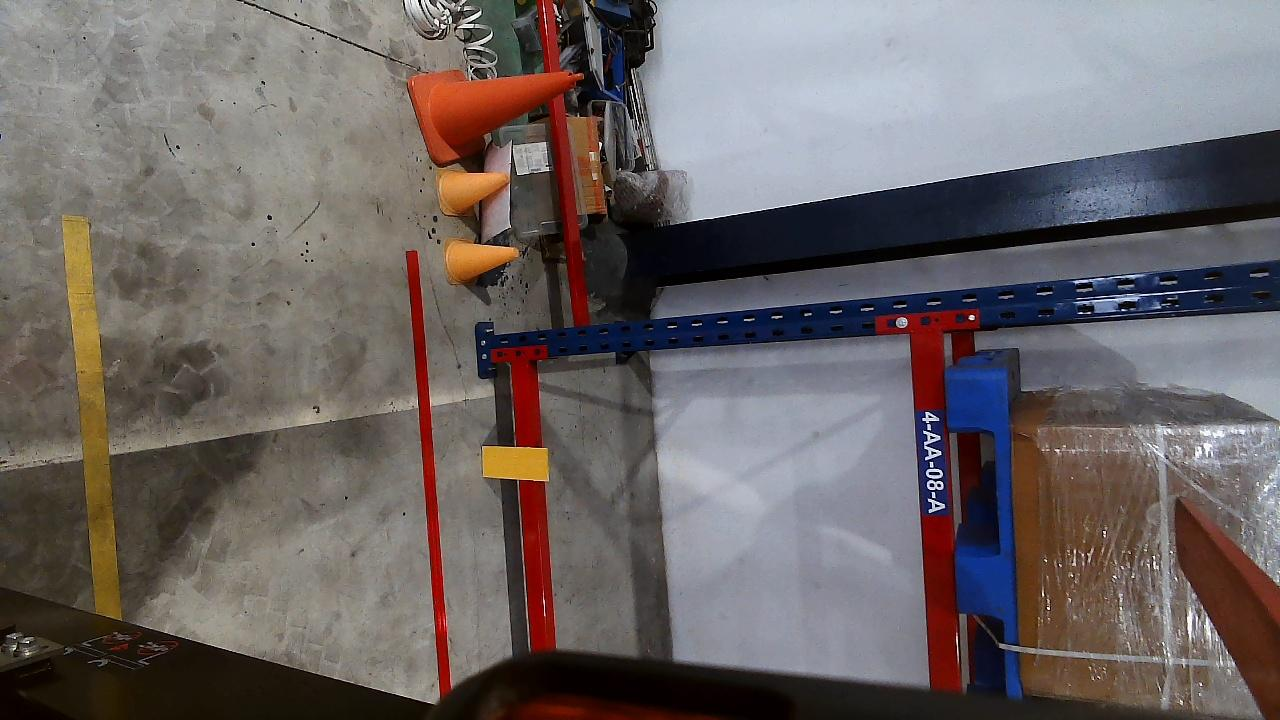h_rack: (907, 327, 964, 689), (509, 358, 555, 651)
orange_strip: (482, 446, 550, 480)
red_line: (409, 251, 452, 695)
small_pallet: (943, 374, 1012, 696)
yellow_line: (58, 213, 119, 618)
